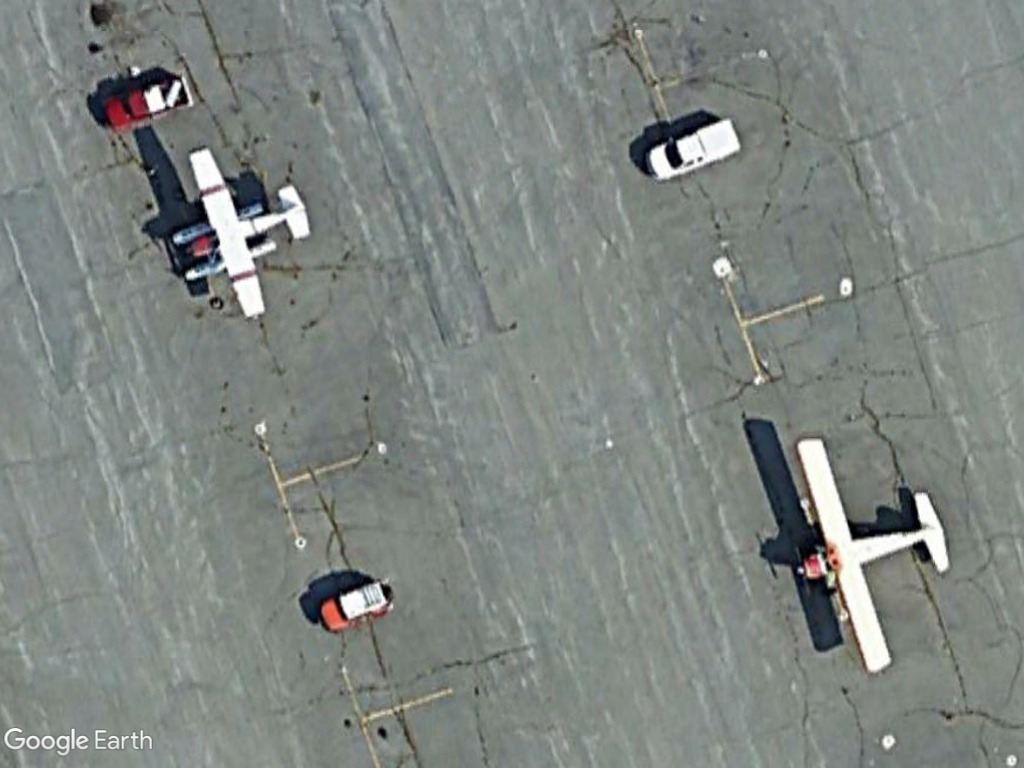other: (645, 115, 744, 183), (98, 72, 195, 133), (310, 579, 395, 636)
trainer: (782, 431, 955, 680)
